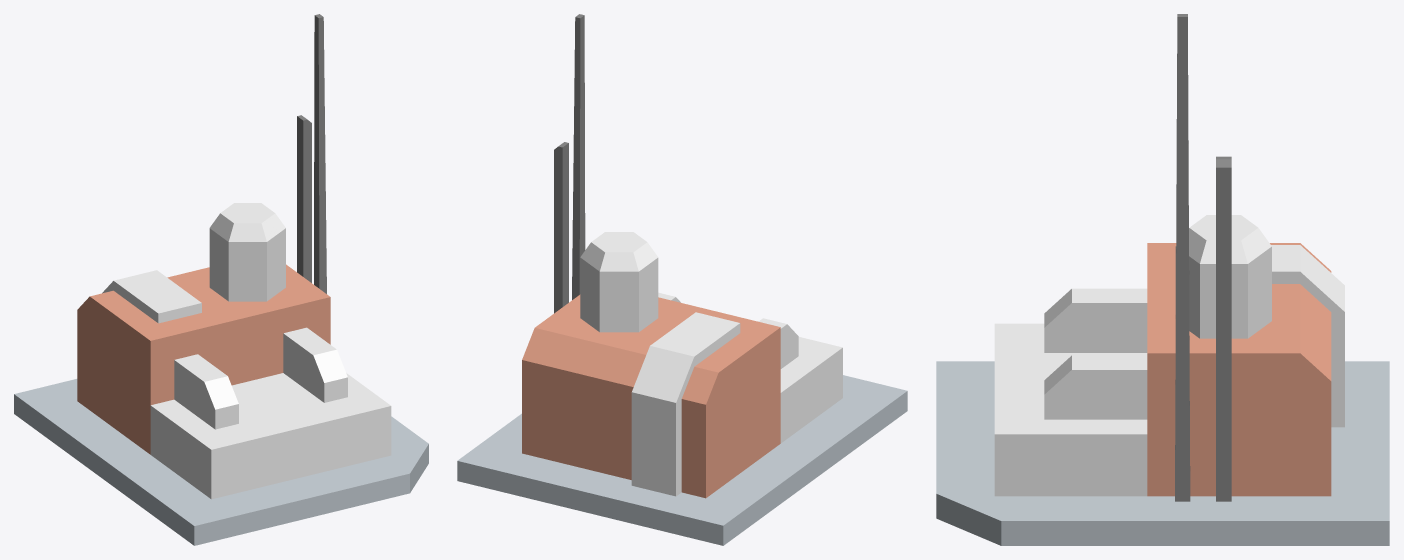
Rendered from stationLarge.glb.
3 views of the same model, side by side, from view 1: azimuth 30°, elevation 25°; view 2: azimuth 150°, elevation 25°; view 3: azimuth 270°, elevation 25° (orthographic). The views are drawn at different scales.
Visible parts, largest first — view 1: stationLarge; view 2: stationLarge; view 3: stationLarge.
Part boxes in pixels (x1,y1,x2,y2): stationLarge: (14,14,428,545); stationLarge: (457,14,907,545); stationLarge: (936,14,1389,545).
Bounding box in the file's own units: 5.5 × 8.15 × 6.6.
